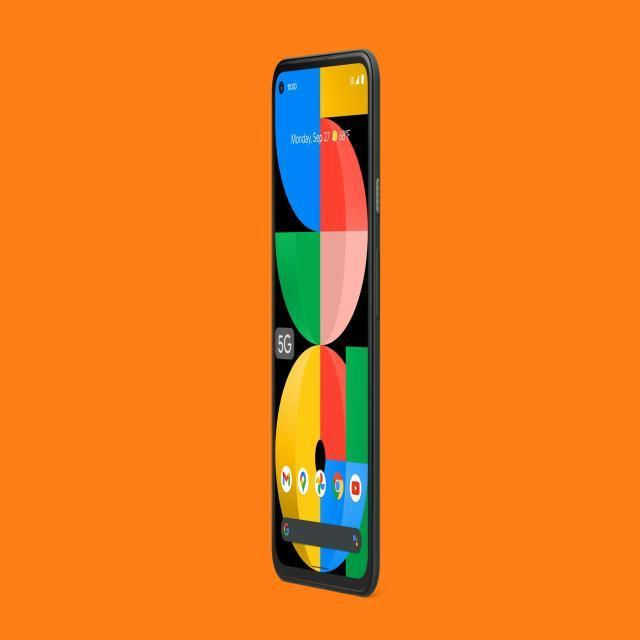Phone: (266, 49, 385, 598)
